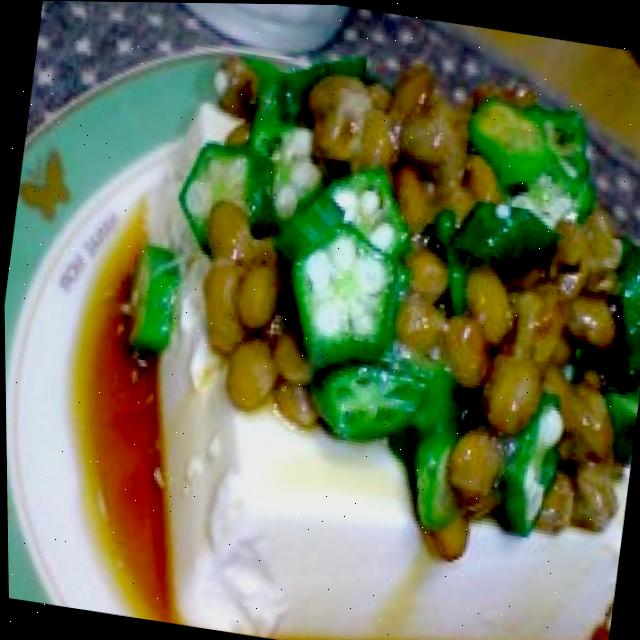豆腐料理: (75, 5, 640, 640)
